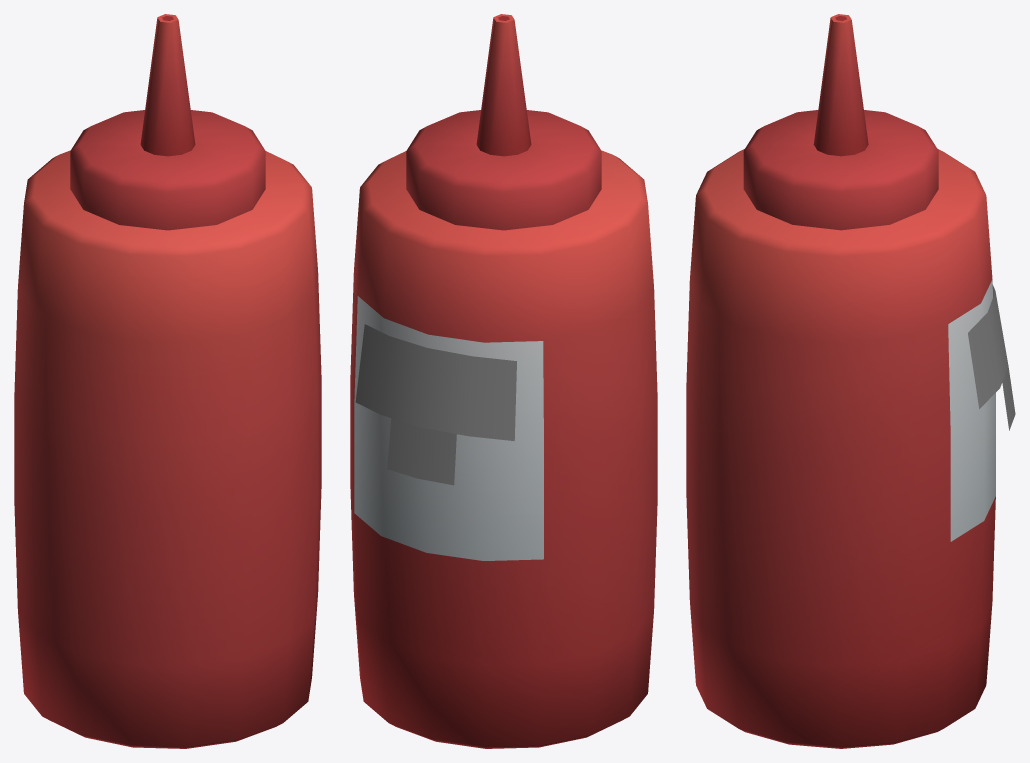
Rendered from ketchup_red_smile.fbx.
3 renders of one model, left to right at view 1: azimuth 30°, elevation 25°; view 2: azimuth 150°, elevation 25°; view 3: azimuth 270°, elevation 25°, orthographic.
Visible parts, largest first — view 1: sauce_001; view 2: sauce_001, smile; view 3: sauce_001, smile.
Part boxes in pixels (box(x1,y1,x2,y2)): sauce_001: box(14, 14, 321, 748); sauce_001: box(350, 14, 657, 748); smile: box(355, 324, 516, 485); sauce_001: box(686, 14, 995, 748); smile: box(968, 284, 1015, 430).
Size of the model in its own units: 79.14 by 190 by 84.15.
